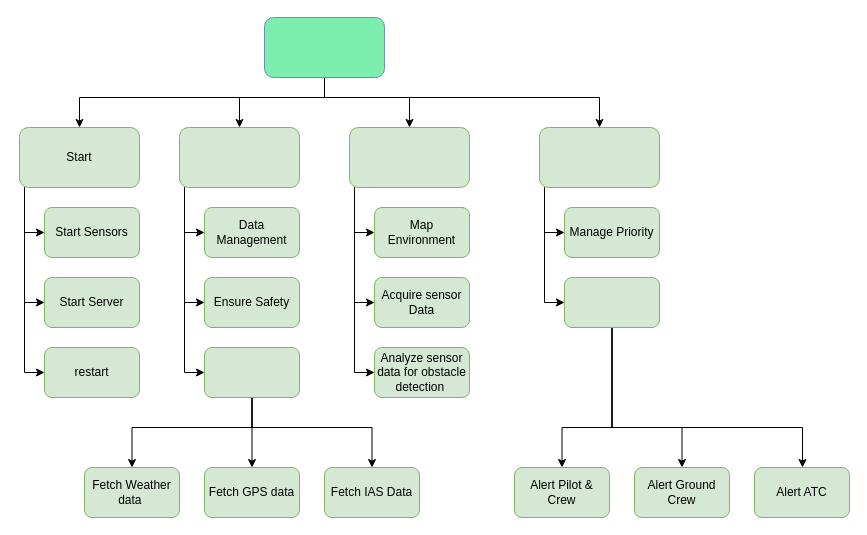
This 867x535 diagram has some shape labels left out. Here are the shapes that lost their labels. From the top down, the centre of each, then its label:
(324,47): FOD
(239,157): Process Management
(409,157): Detect Obstacle
(599,157): Alert Management
(612,302): Alert Stakeholders
(252,372): Resources Management
